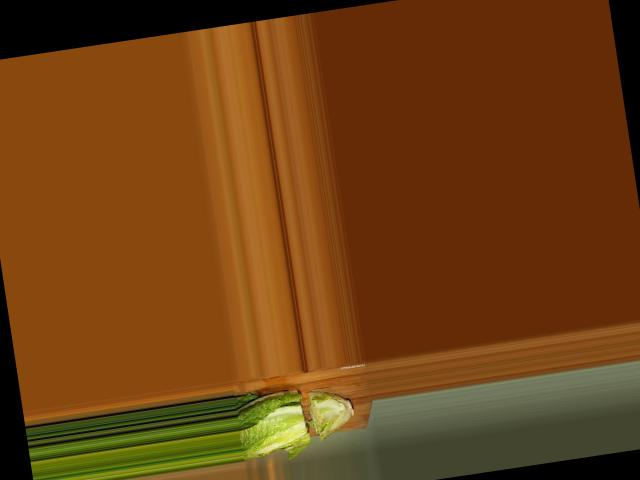lettuce: (234, 374, 357, 463)
